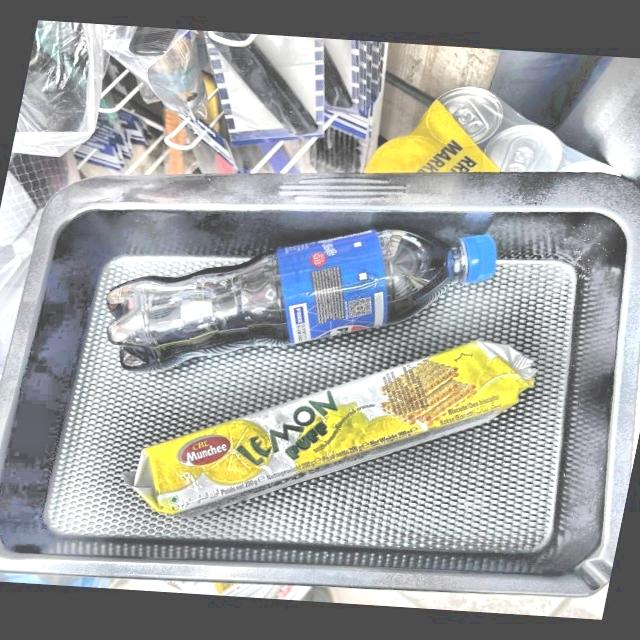lemon puff: (126, 334, 538, 526)
pepsi-bottle: (106, 223, 502, 369)
